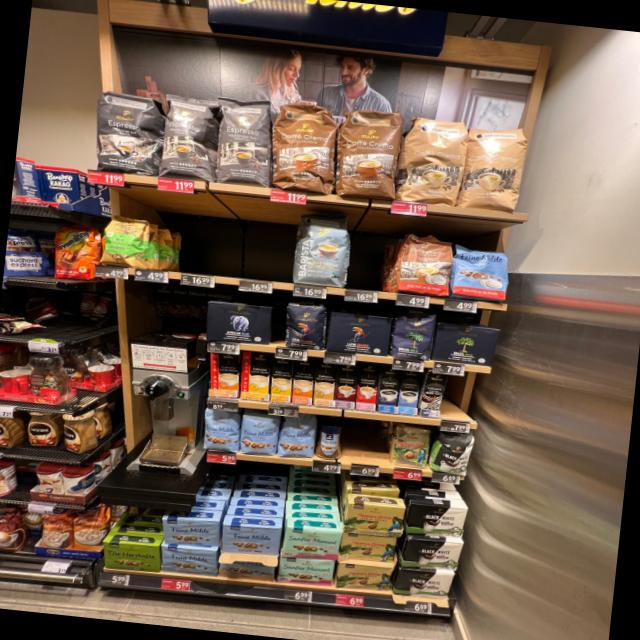AB Gemahlen: (203, 300, 274, 346)
Athiopien Bohne: (99, 212, 153, 270)
BM Bohne: (388, 306, 437, 362)
BM Gemahlen: (431, 321, 501, 366)
BW Bohne: (427, 430, 473, 478)
BW Gemahlen: (406, 500, 470, 540), (400, 534, 464, 573), (394, 564, 454, 601)
Barista CC: (290, 206, 356, 289)
Barista Espresso: (219, 522, 282, 556)
CC Mild: (391, 112, 470, 210), (458, 120, 531, 217)
CC Vollmundig: (390, 230, 458, 300)
CC Vollmundig 36 Pads: (265, 96, 343, 198), (326, 105, 404, 202)
Colombia BB Bohne: (388, 423, 432, 469)
Colombia BB Gemahlen: (340, 500, 406, 536), (332, 558, 394, 594), (338, 530, 398, 564)
Empty Shelf: (168, 221, 290, 282), (349, 232, 397, 290), (346, 424, 385, 464), (443, 374, 474, 419)
Espresso M Art: (88, 86, 166, 178), (206, 94, 276, 190), (154, 91, 223, 185)
FM 36 Pads: (447, 241, 512, 305)
FM Bohne: (236, 411, 282, 458), (199, 407, 243, 453), (276, 414, 318, 460)
FM Gemahlen: (159, 514, 224, 548), (159, 545, 218, 577)
FM Instant: (314, 420, 346, 461)
Herzhatfe Mundig: (101, 540, 160, 572)
LG Bohne: (280, 299, 330, 352)
LG Gemahlen: (324, 310, 393, 358)
SM Gemahlen: (280, 525, 342, 562), (274, 554, 336, 586)
Simo CCMild: (237, 349, 275, 402)
Simo CCMild bigpack: (268, 357, 296, 405)
Simo CCVollmundig: (209, 352, 240, 398)
Simo CCVollmundig bigpack: (289, 358, 317, 406)
Simo Decaff: (311, 360, 339, 408)
Simo Es Elegant: (354, 363, 381, 413)
Simo Es Kraft: (333, 364, 360, 410)
Simo Kaffee BW: (418, 368, 446, 418)
Simo Kaffee Kraft: (374, 363, 402, 415)
Simo Kaffee Mild: (398, 369, 422, 417)
